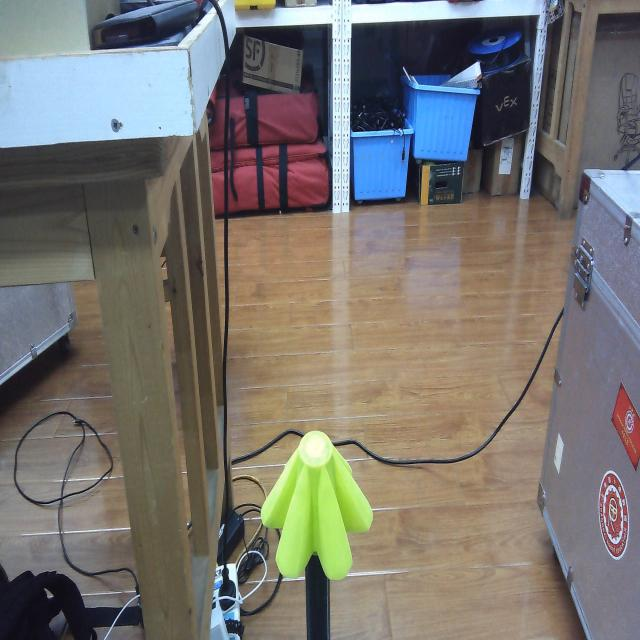Yellow-Stake-Head: (261, 430, 373, 581)
